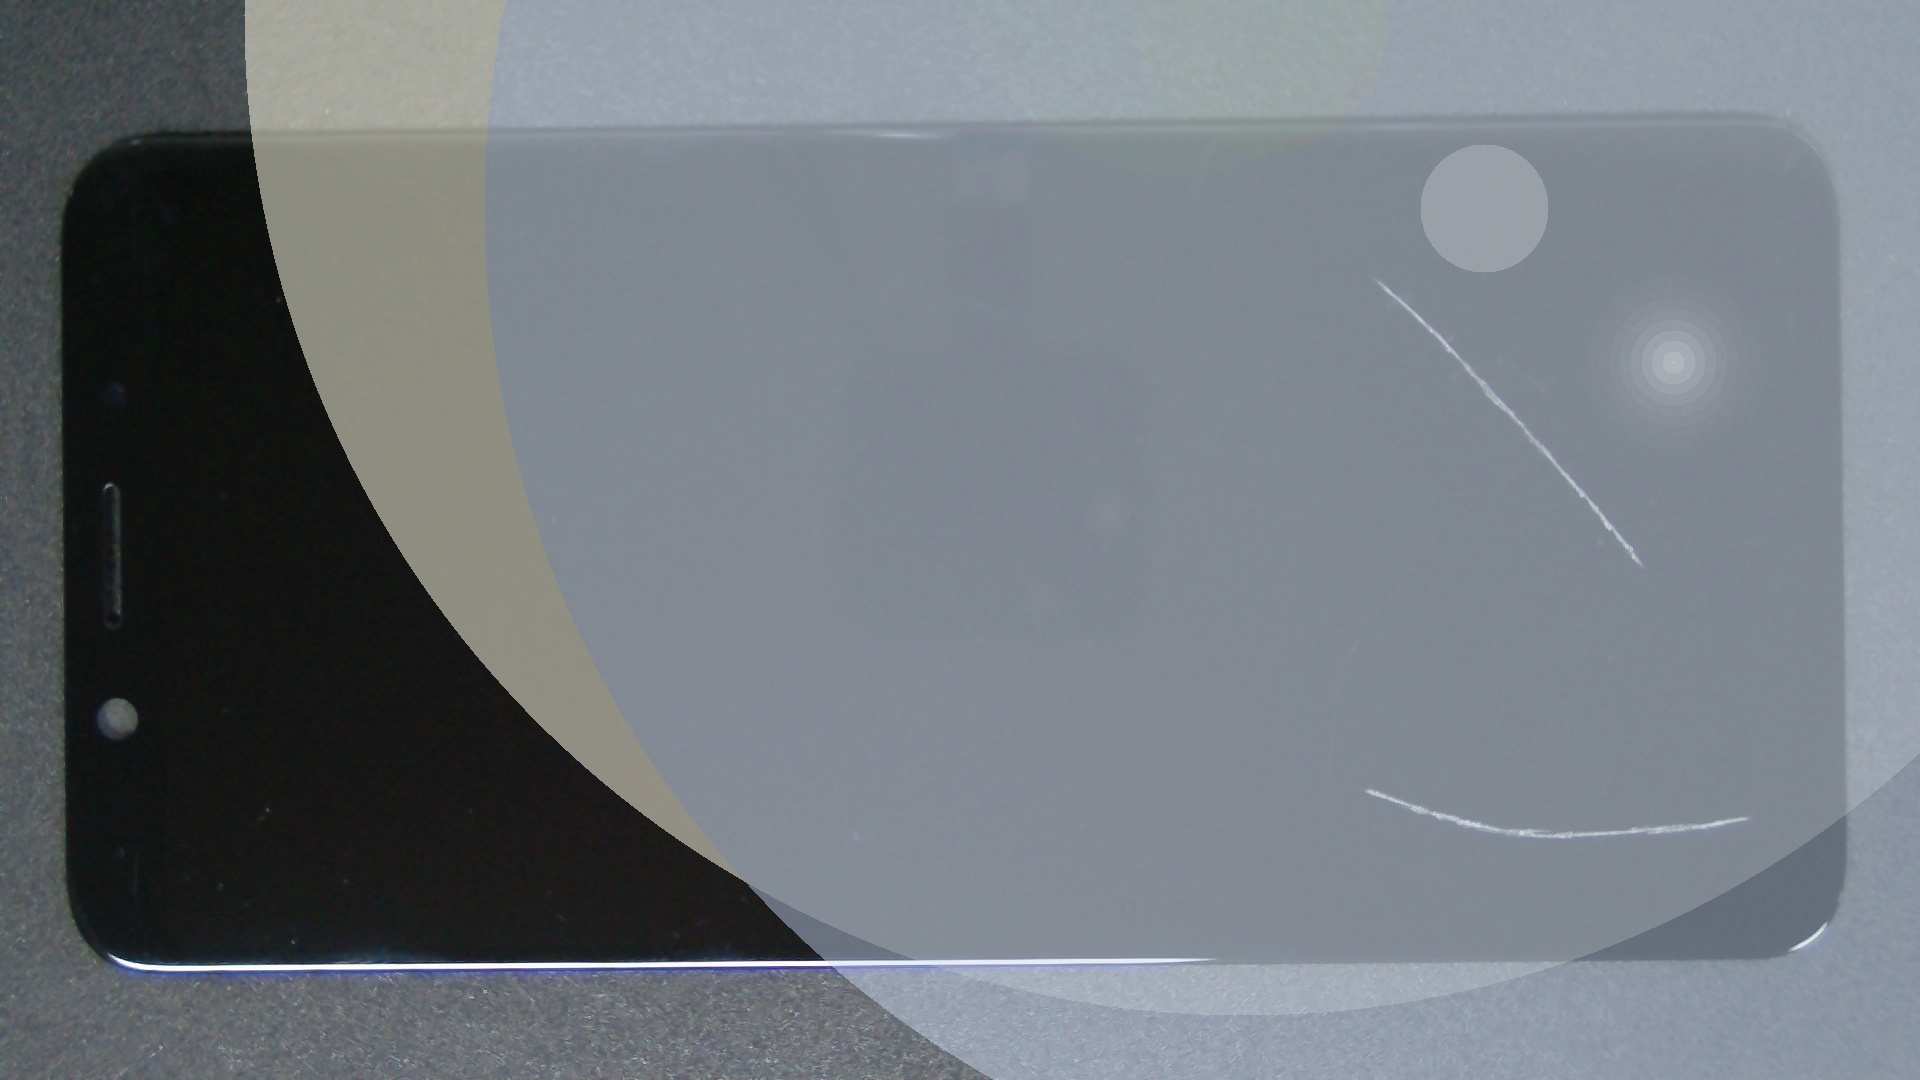oil: (684, 393, 1920, 1080), (688, 138, 1920, 421)
